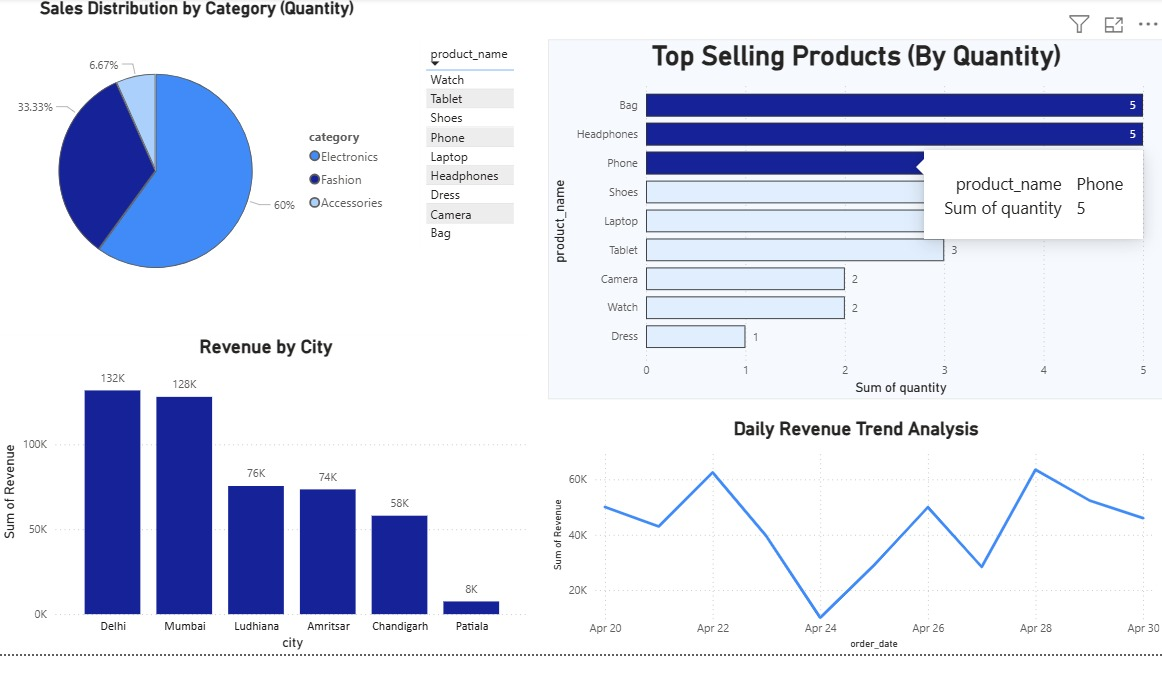

The dashboard page shown, as its layout file describes it:
{"tool":"powerbi","page":{"name":"Page 1","canvas":[1280,720],"ordinal":0},"visuals":[{"type":"clusteredBarChart","title":"Top Selling Products (By Quantity)","fields":{"Category":["sales_data.product_name"],"Y":["Sum(sales_data.quantity)"]},"box":[603.5,45.3,676.5,395.2],"z":0},{"type":"tableEx","fields":{"Values":["sales_data.product_name"]},"box":[463.8,45.3,124.9,231.9],"z":1000},{"type":"pieChart","title":"Sales Distribution by Category (Quantity)","fields":{"Category":["sales_data.category"],"Y":["Sum(sales_data.quantity)"]},"box":[0,0,436.4,359.5],"z":2000},{"type":"clusteredColumnChart","title":"Revenue by City","fields":{"Category":["sales_data.city"],"Y":["Sum(sales_data.Revenue)"]},"box":[0,370.1,588.7,349.9],"z":3000},{"type":"lineChart","title":"Daily Revenue Trend Analysis","fields":{"Category":["sales_data.order_date"],"Y":["Sum(sales_data.Revenue)"]},"box":[603.8,461.1,676.5,259.3],"z":4000}]}

Visuals, with their boxes on the page's 1280x720 design canvas (x1, y1, x2, y2). These are canvas units, not pixel positions in the 1162x676 screenshot, which may show the page scaled, cropped or inside an application window:
"Top Selling Products (By Quantity)" clusteredBarChart: x1=604 y1=45 x2=1280 y2=440
tableEx - sales_data.product_name: x1=464 y1=45 x2=589 y2=277
"Sales Distribution by Category (Quantity)" pieChart: x1=0 y1=0 x2=436 y2=360
"Revenue by City" clusteredColumnChart: x1=0 y1=370 x2=589 y2=720
"Daily Revenue Trend Analysis" lineChart: x1=604 y1=461 x2=1280 y2=720
